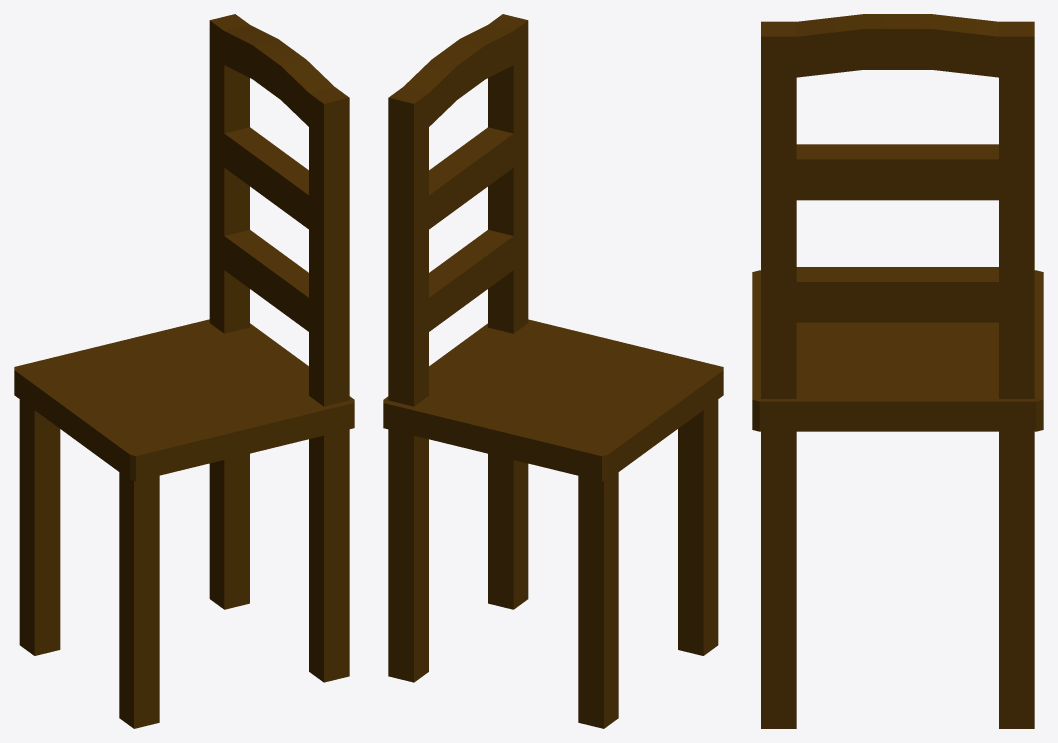
Rendered from ChairModel.FBX.
3 views of the same model, side by side, from view 1: azimuth 30°, elevation 25°; view 2: azimuth 150°, elevation 25°; view 3: azimuth 270°, elevation 25° (orthographic). The views are drawn at different scales.
Parts seen in each view (by area): view 1: chair; view 2: chair; view 3: chair.
Boxes of the visible parts, x1,y1,x2,y2 form: chair: (14, 14, 354, 728); chair: (383, 14, 723, 728); chair: (752, 14, 1043, 728).
Size of the model in its own units: 31.12 by 77.42 by 29.22.
